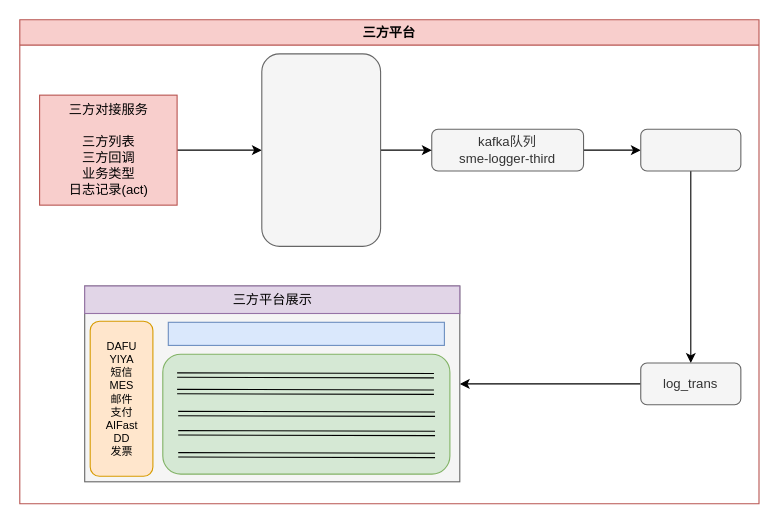
Some shapes in this 778 by 523 pixel diagram are drawn without their labels. Here are the shapes that lost their labels. From the top down, the box of each, then its label:
(261, 53, 381, 246): 日志组件 日志Id 日志类型 请求Id 服务Ip 三方标识（code） 业务类型(code) 调用地址 日志内容（参数） 处理状态 处理时长 创建时间
(640, 128, 741, 171): clickhouse
(167, 321, 444, 345): 查询，三方标识，业务类型，统计类型
